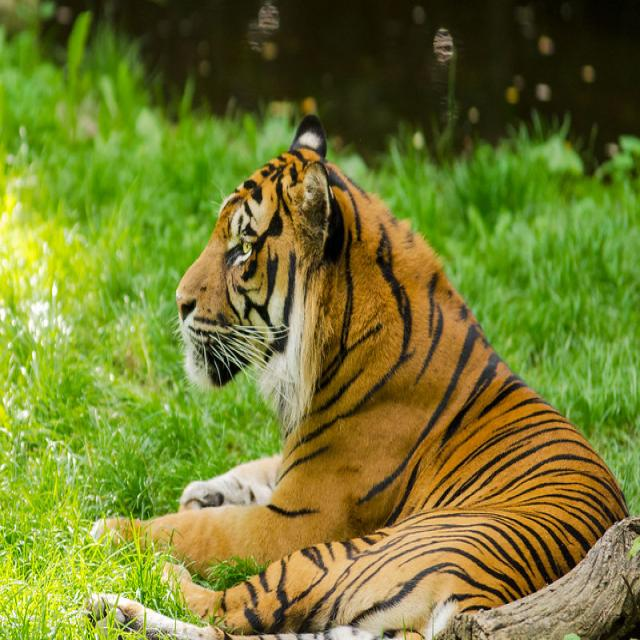Tiger: (101, 112, 628, 638)
